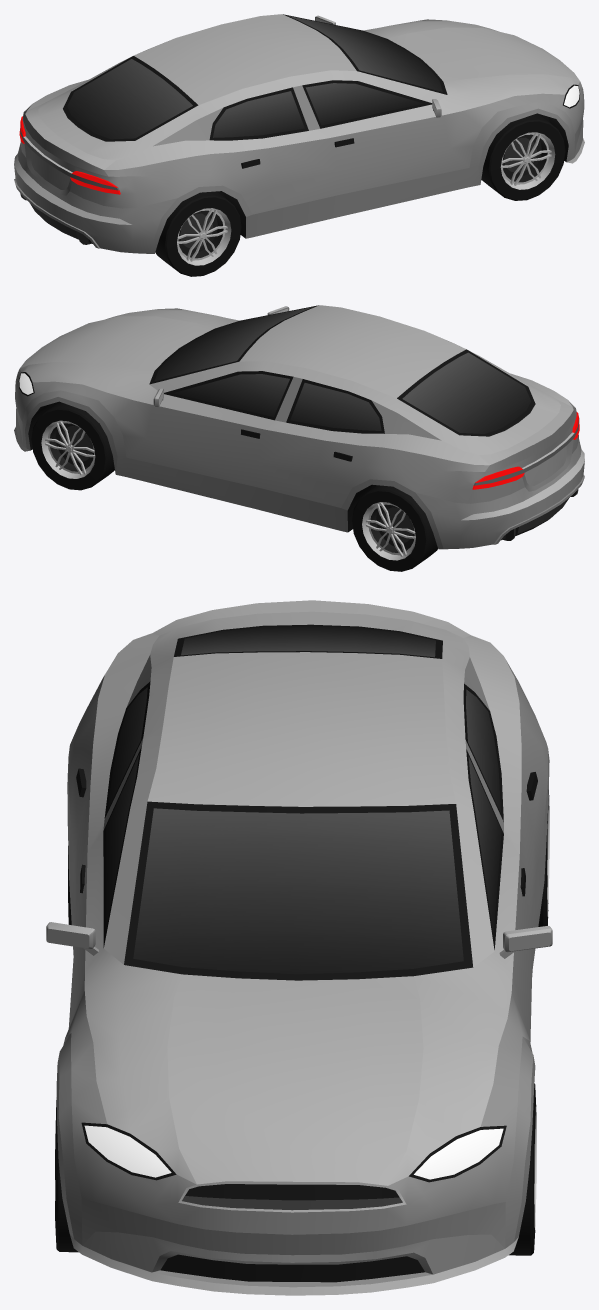
File: Car_149.glb
The picture shows the model from 3 angles, top to bottom: view 1: azimuth 30°, elevation 25°; view 2: azimuth 150°, elevation 25°; view 3: azimuth 270°, elevation 25°; orthographic projection. The views are drawn at different scales.
Visible parts, largest first — view 1: Car_149, wheel_3_Car_149_Wheel_2R, wheel_1_Car_149_Wheel_1R; view 2: Car_149, wheel_2_Car_149_Wheel_2L, wheel_0_Car_149_Wheel_1L; view 3: Car_149, wheel_0_Car_149_Wheel_1L, wheel_1_Car_149_Wheel_1R.
Part boxes in pixels (<box>): Car_149: <box>14,14,584,253</box>; wheel_3_Car_149_Wheel_2R: <box>155,191,241,276</box>; wheel_1_Car_149_Wheel_1R: <box>481,113,565,200</box>; Car_149: <box>14,305,584,549</box>; wheel_2_Car_149_Wheel_2L: <box>352,485,437,571</box>; wheel_0_Car_149_Wheel_1L: <box>31,402,114,490</box>; Car_149: <box>46,600,552,1295</box>; wheel_0_Car_149_Wheel_1L: <box>509,1083,536,1255</box>; wheel_1_Car_149_Wheel_1R: <box>55,1097,78,1252</box>.
Bounding box in the file's own units: 4.8 × 1.39 × 2.
3 materials, 3 textured.
